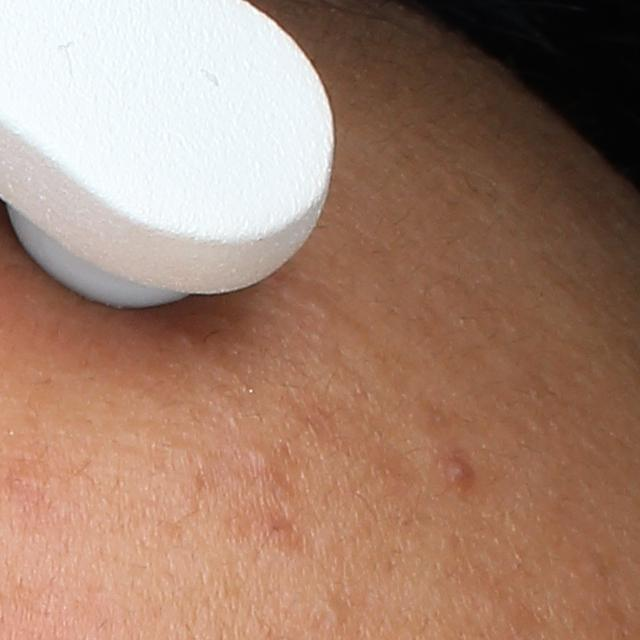comedo: (245, 442, 280, 472), (320, 593, 350, 628)
papule: (444, 458, 471, 493)
